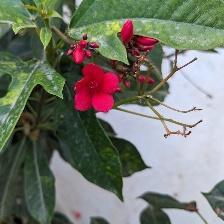jatropha: (73, 64, 123, 116)
